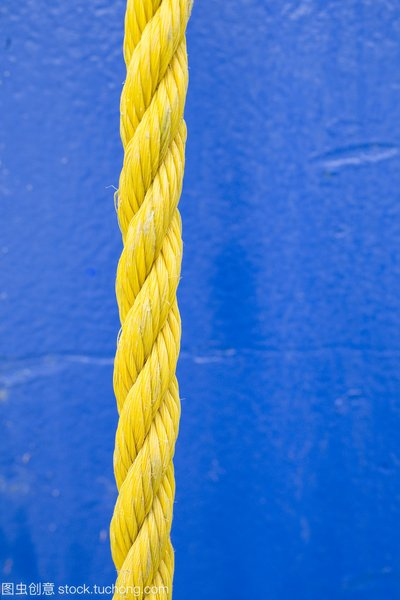9/可回收垃圾/绳子: (108, 1, 194, 600)
